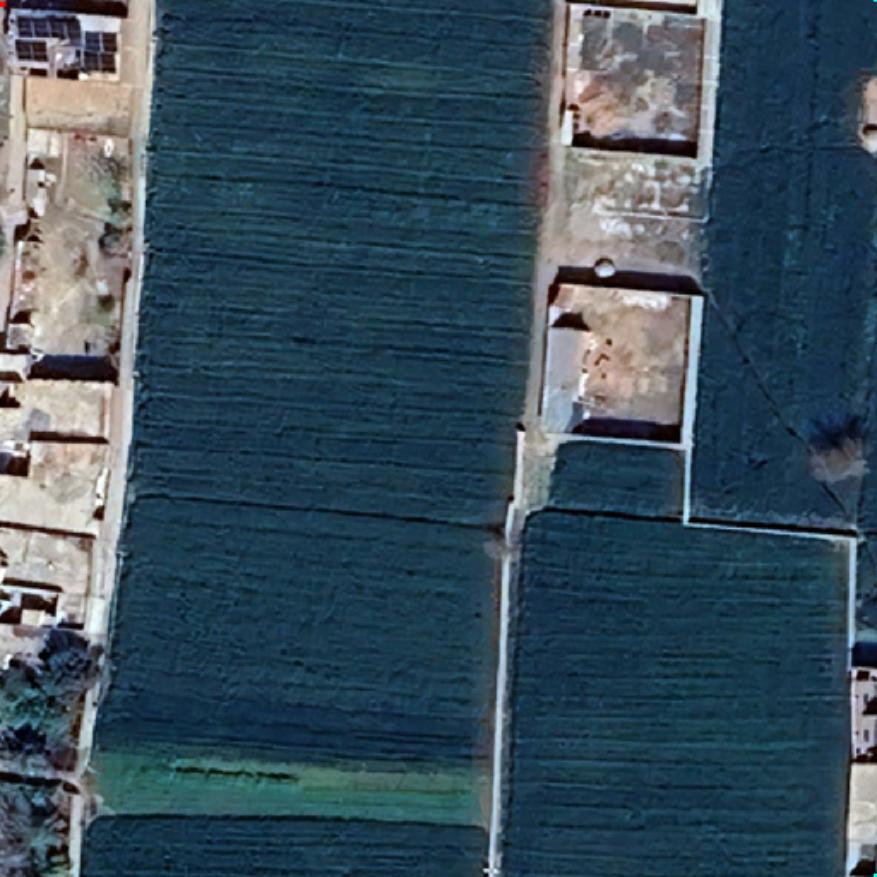Solarpanel: (10, 13, 124, 72)
